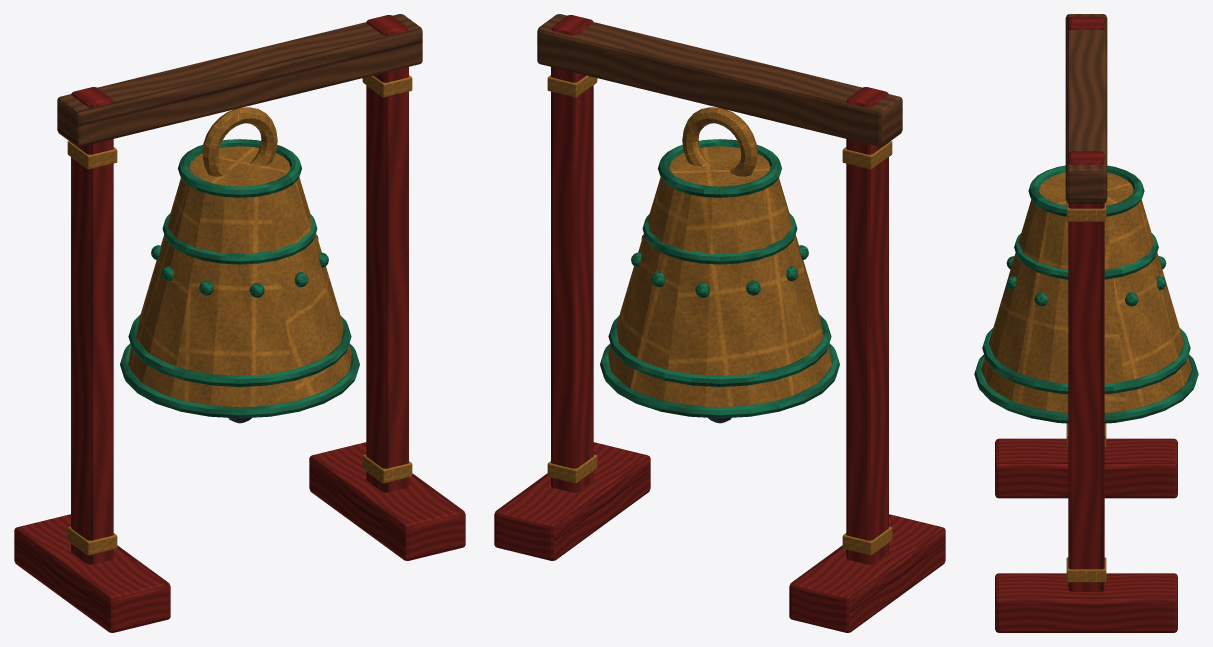
File: bronze_bell.glb
3 views of the same model, side by side, from view 1: azimuth 30°, elevation 25°; view 2: azimuth 150°, elevation 25°; view 3: azimuth 270°, elevation 25° (orthographic). The views are drawn at different scales.
Visible parts, largest first — view 1: bronze_bell_Lacquer, bronze_bell_Brass, bronze_bell_Walnut, bronze_bell_Jade; view 2: bronze_bell_Lacquer, bronze_bell_Brass, bronze_bell_Walnut, bronze_bell_Jade; view 3: bronze_bell_Lacquer, bronze_bell_Brass, bronze_bell_Jade, bronze_bell_Walnut.
Part boxes in pixels (bbox=[...]): bronze_bell_Lacquer: bbox=[14, 15, 465, 632]; bronze_bell_Brass: bbox=[67, 75, 412, 555]; bronze_bell_Walnut: bbox=[57, 14, 422, 146]; bronze_bell_Jade: bbox=[120, 139, 359, 418]; bronze_bell_Lacquer: bbox=[494, 15, 945, 632]; bronze_bell_Brass: bbox=[547, 75, 892, 555]; bronze_bell_Walnut: bbox=[537, 14, 902, 146]; bronze_bell_Jade: bbox=[600, 139, 839, 418]; bronze_bell_Lacquer: bbox=[995, 16, 1177, 632]; bronze_bell_Brass: bbox=[981, 172, 1191, 582]; bronze_bell_Jade: bbox=[974, 165, 1198, 423]; bronze_bell_Walnut: bbox=[1065, 14, 1107, 203].
Bounding box in the file's own units: 2.42 × 3.22 × 1.41.
Materials: 5 (5 with a texture image).
